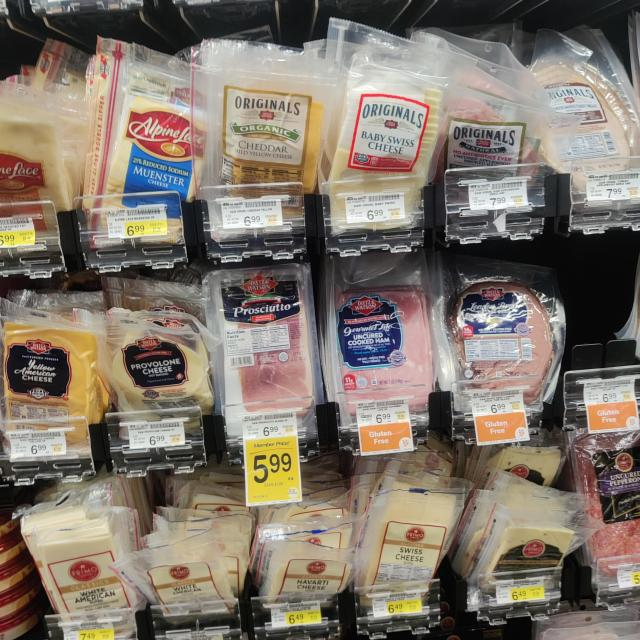Cheese: (206, 61, 331, 210), (324, 66, 440, 215), (92, 80, 207, 225), (18, 496, 140, 623), (0, 305, 102, 452), (100, 304, 224, 424), (138, 492, 247, 621), (374, 469, 461, 602), (478, 492, 579, 601), (266, 526, 352, 624)
Meat: (450, 264, 568, 424), (328, 272, 443, 423), (219, 271, 322, 425), (530, 51, 640, 176), (570, 404, 640, 572), (445, 82, 545, 198)
